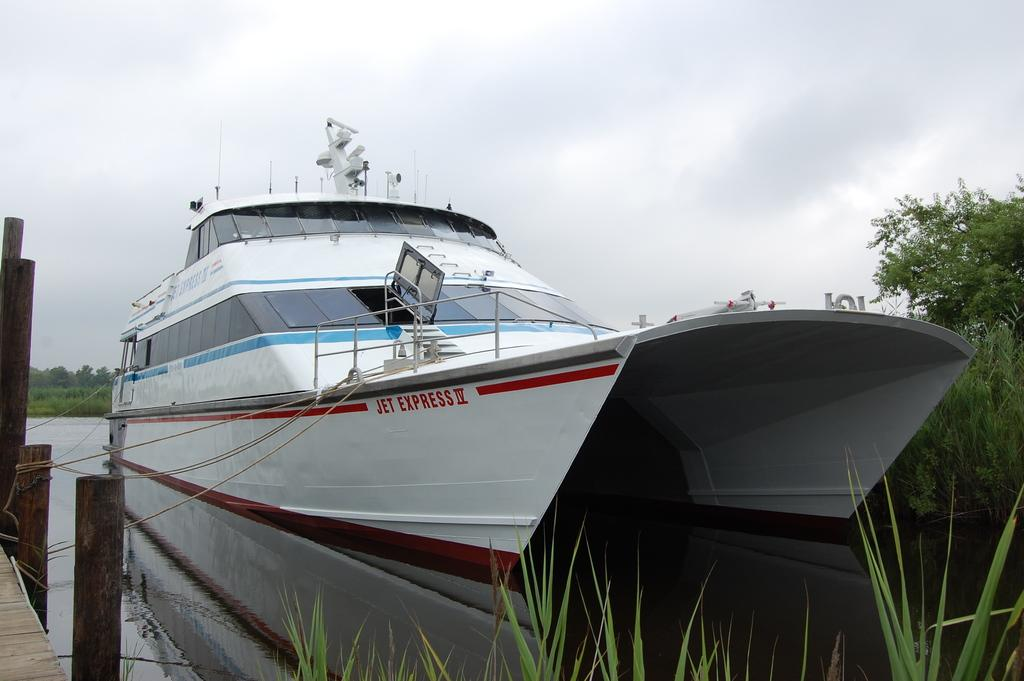PassengerShip: (94, 105, 648, 563)
